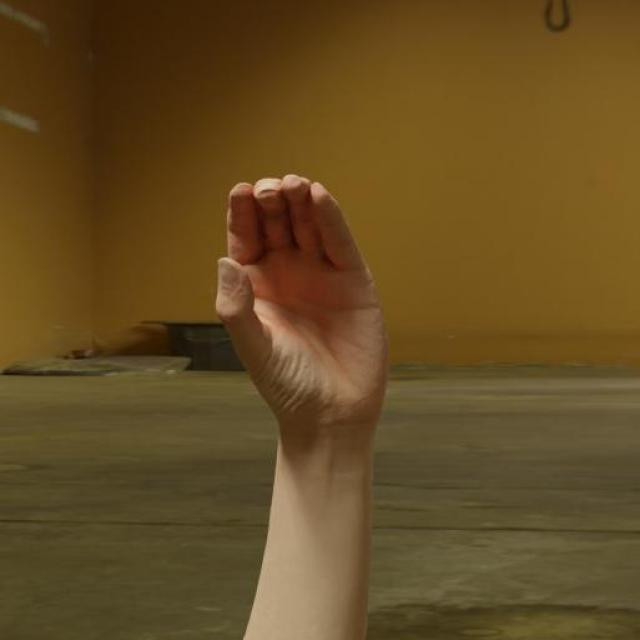C: (211, 175, 400, 464)
